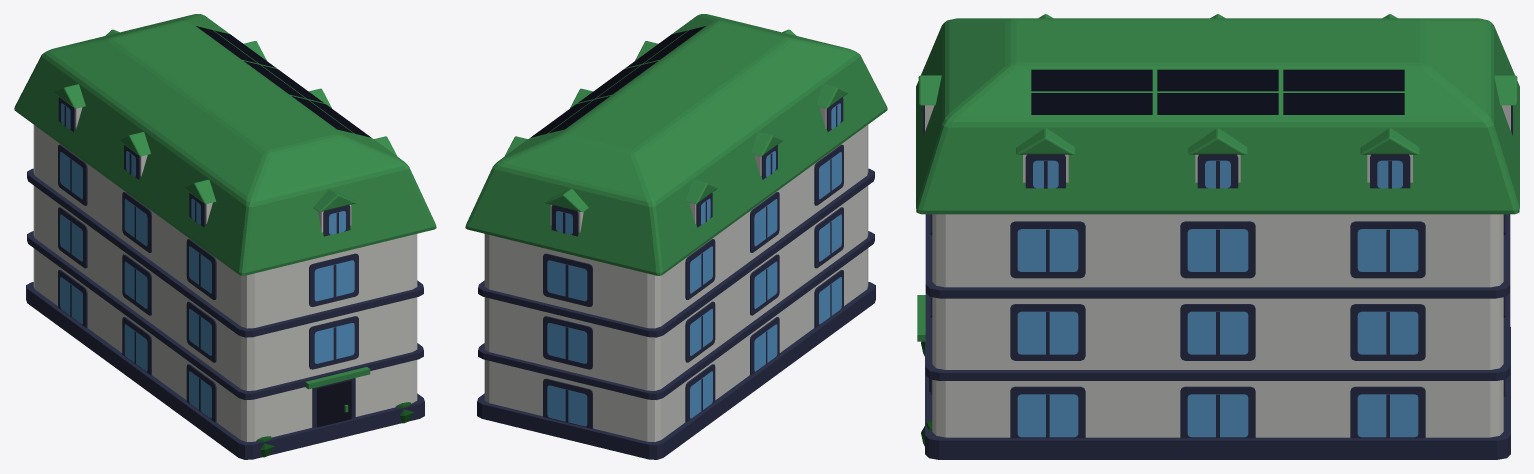
Rendered from house-1x2-3f-mansard-a-solar.glb.
The picture shows the model from 3 angles, left to right: view 1: azimuth 30°, elevation 25°; view 2: azimuth 150°, elevation 25°; view 3: azimuth 270°, elevation 25°; orthographic projection. The views are drawn at different scales.
Parts seen in each view (by area): view 1: house-1x2-3f-mansard-a-solar; view 2: house-1x2-3f-mansard-a-solar; view 3: house-1x2-3f-mansard-a-solar.
Boxes of the visible parts, bbox=[...] form: house-1x2-3f-mansard-a-solar: bbox=[14, 14, 436, 459]; house-1x2-3f-mansard-a-solar: bbox=[465, 14, 887, 459]; house-1x2-3f-mansard-a-solar: bbox=[916, 14, 1519, 459].
Bounding box in the file's own units: 0.9876 × 1.3 × 1.99.
Materials: 1 (1 with a texture image).
